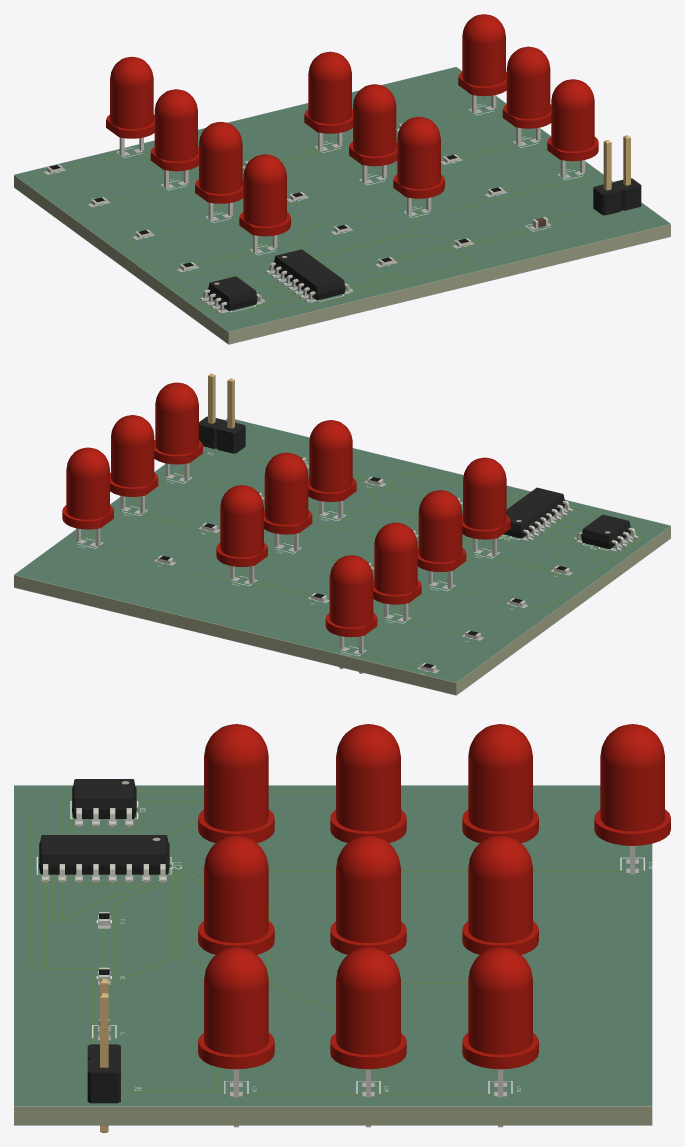
Rendered from chaser-4017.glb.
3 renders of one model, top to bottom at view 1: azimuth 30°, elevation 25°; view 2: azimuth 150°, elevation 25°; view 3: azimuth 270°, elevation 25°, orthographic. The views are drawn at different scales.
Parts seen in each view (by area): view 1: =>[0:1:1:18], =>[0:1:1:20], =>[0:1:1:3] (×10), =>[0:1:1:13], =>[0:1:1:11], =>[0:1:1:14], =>[0:1:1:9], =>[0:1:1:15], =>[0:1:1:19], =>[0:1:1:17]; view 2: =>[0:1:1:20], =>[0:1:1:18], =>[0:1:1:3] (×10), =>[0:1:1:13], =>[0:1:1:11], =>[0:1:1:9], =>[0:1:1:14], =>[0:1:1:15], =>[0:1:1:19], =>[0:1:1:17]; view 3: =>[0:1:1:20], =>[0:1:1:18], =>[0:1:1:3] (×10), =>[0:1:1:13], =>[0:1:1:14], =>[0:1:1:9], =>[0:1:1:11], =>[0:1:1:15], =>[0:1:1:17], =>[0:1:1:19].
Part boxes in pixels (bbox=[...]): =>[0:1:1:18]: bbox=[14, 67, 670, 331]; =>[0:1:1:20]: bbox=[14, 68, 670, 344]; =>[0:1:1:3] (×10): bbox=[106, 14, 598, 252]; =>[0:1:1:13]: bbox=[266, 249, 353, 302]; =>[0:1:1:11]: bbox=[593, 135, 641, 215]; =>[0:1:1:14]: bbox=[38, 110, 598, 318]; =>[0:1:1:9]: bbox=[200, 276, 264, 313]; =>[0:1:1:15]: bbox=[44, 106, 583, 313]; =>[0:1:1:19]: bbox=[15, 188, 670, 344]; =>[0:1:1:17]: bbox=[46, 104, 583, 312]; =>[0:1:1:20]: bbox=[14, 420, 670, 695]; =>[0:1:1:18]: bbox=[14, 419, 670, 682]; =>[0:1:1:3] (×10): bbox=[62, 382, 510, 673]; =>[0:1:1:13]: bbox=[503, 487, 572, 540]; =>[0:1:1:11]: bbox=[199, 373, 245, 453]; =>[0:1:1:9]: bbox=[573, 514, 638, 551]; =>[0:1:1:14]: bbox=[84, 449, 641, 672]; =>[0:1:1:15]: bbox=[77, 464, 633, 673]; =>[0:1:1:19]: bbox=[14, 538, 670, 695]; =>[0:1:1:17]: bbox=[78, 447, 608, 674]; =>[0:1:1:20]: bbox=[14, 786, 652, 1124]; =>[0:1:1:18]: bbox=[14, 785, 652, 1106]; =>[0:1:1:3] (×10): bbox=[198, 724, 670, 1127]; =>[0:1:1:13]: bbox=[39, 835, 169, 882]; =>[0:1:1:14]: bbox=[28, 791, 625, 1094]; =>[0:1:1:9]: bbox=[72, 779, 136, 826]; =>[0:1:1:11]: bbox=[87, 978, 120, 1132]; =>[0:1:1:15]: bbox=[41, 819, 638, 1096]; =>[0:1:1:17]: bbox=[36, 801, 652, 1098]; =>[0:1:1:19]: bbox=[14, 1125, 652, 1125].
Bounding box in the file's own units: 0.0575 × 0.0146 × 0.0497.
